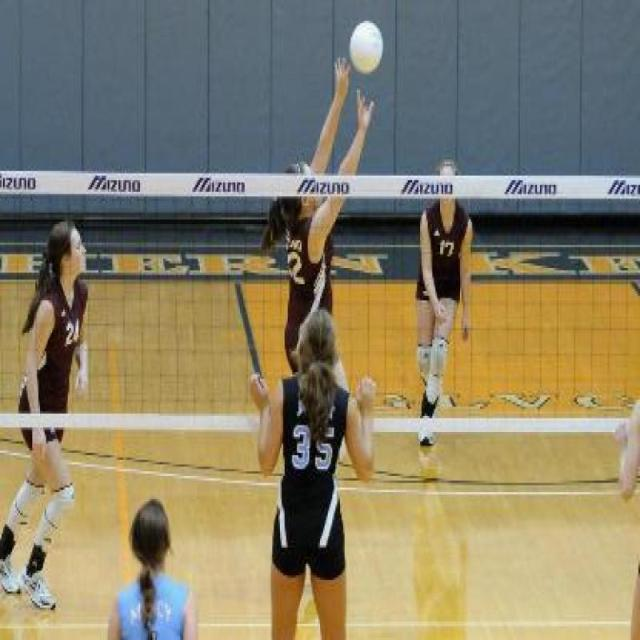volleyball: (350, 21, 384, 72)
